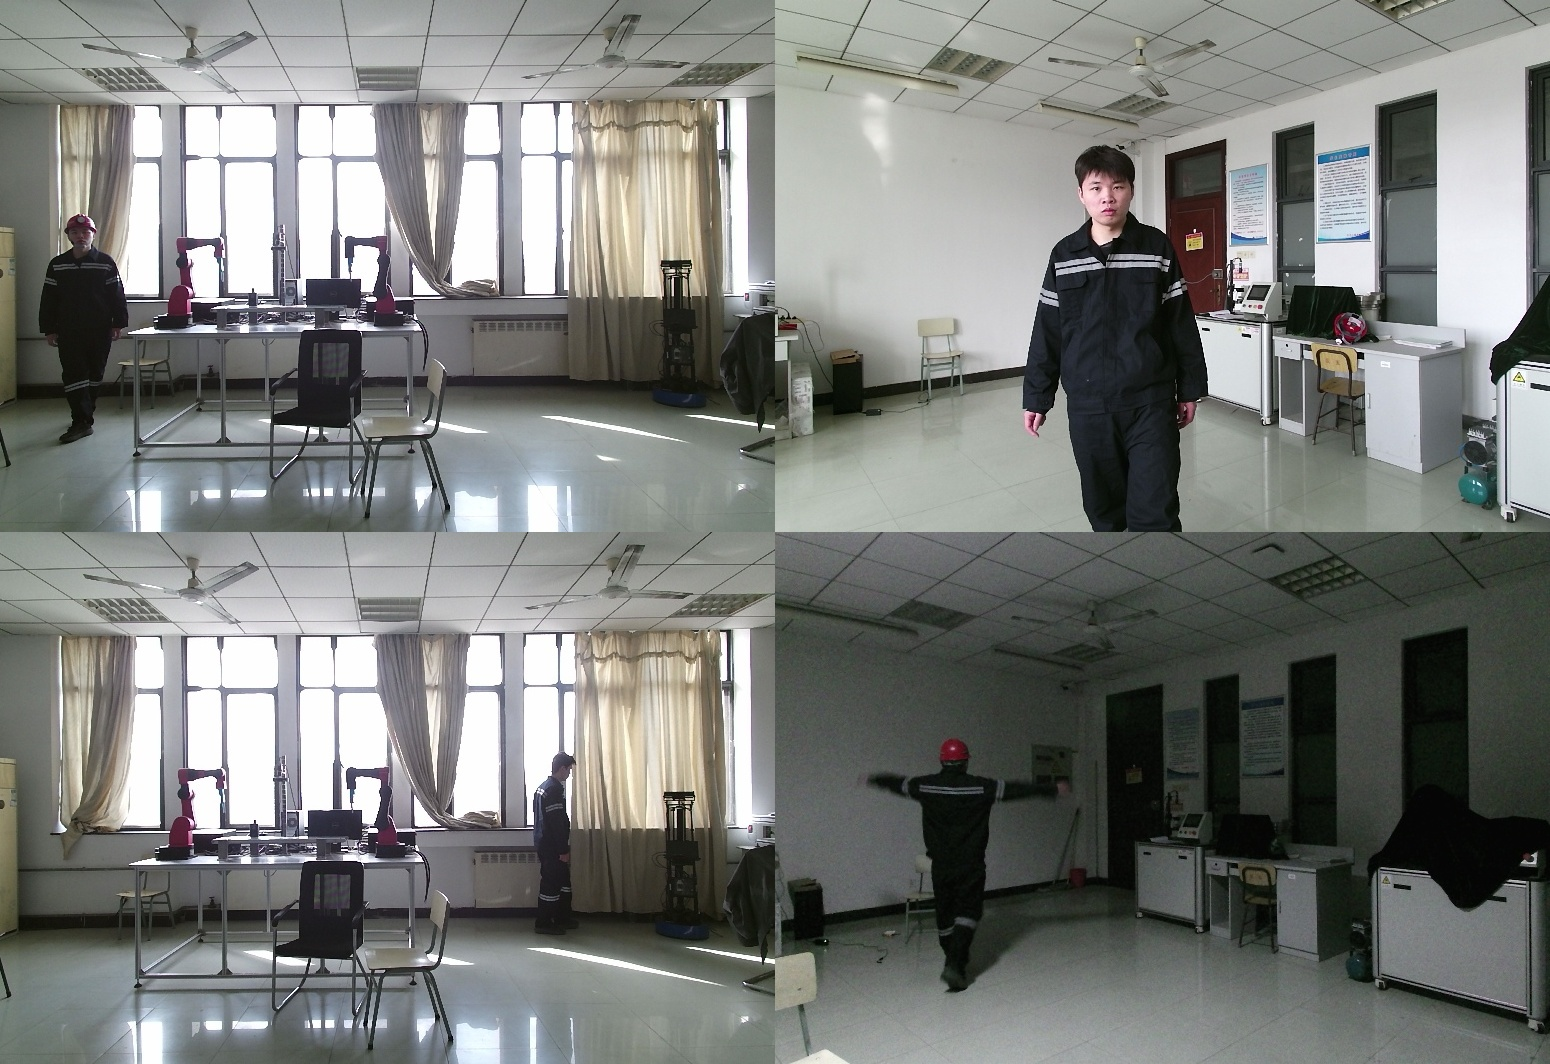person: (1023, 146, 1223, 532), (854, 739, 1072, 995), (37, 216, 129, 443), (535, 758, 602, 941)
